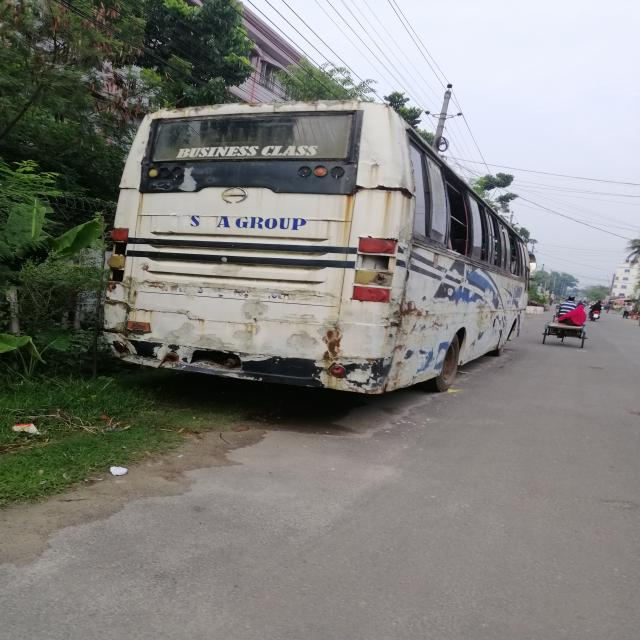Bus: (102, 98, 542, 401)
